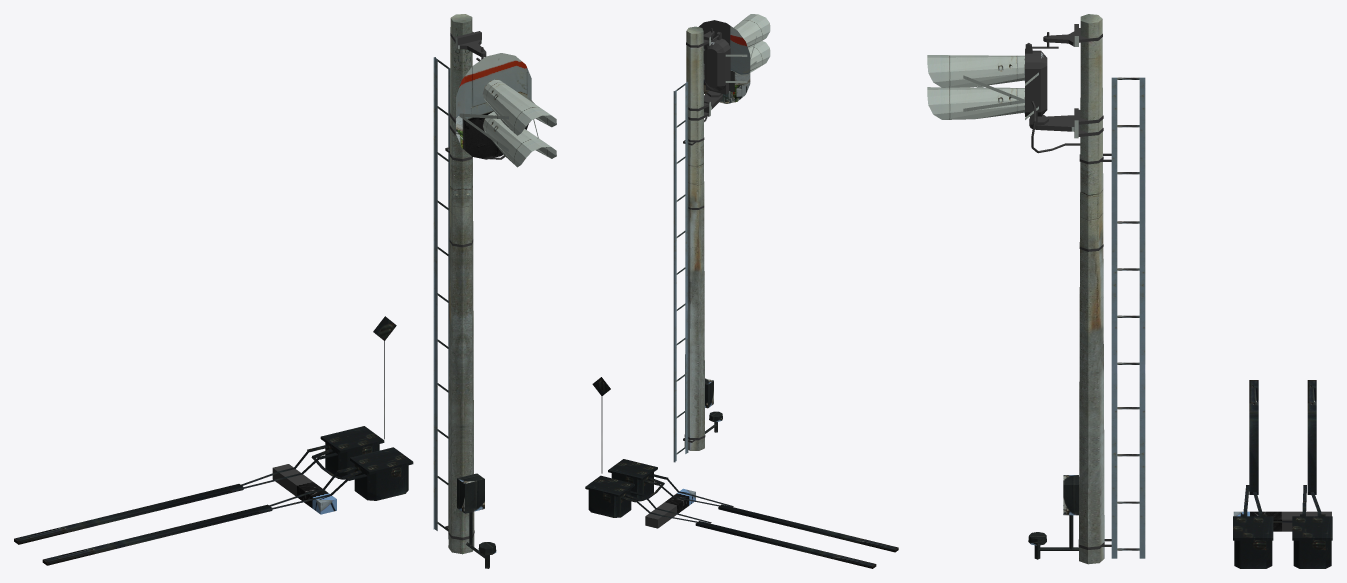
File: sig_m2.gltf
The picture shows the model from 3 angles, left to right: view 1: azimuth 30°, elevation 25°; view 2: azimuth 150°, elevation 25°; view 3: azimuth 270°, elevation 25°; orthographic projection. The views are drawn at different scales.
Parts seen in each view (by area): view 1: sig_m2; view 2: sig_m2; view 3: sig_m2.
Part boxes in pixels (x1,y1,x2,y2): sig_m2: (14, 14, 556, 568); sig_m2: (585, 14, 898, 568); sig_m2: (927, 14, 1332, 568).
Size of the model in its own units: 4.18 by 5.66 by 3.85.
Materials: 1 (1 with a texture image).
